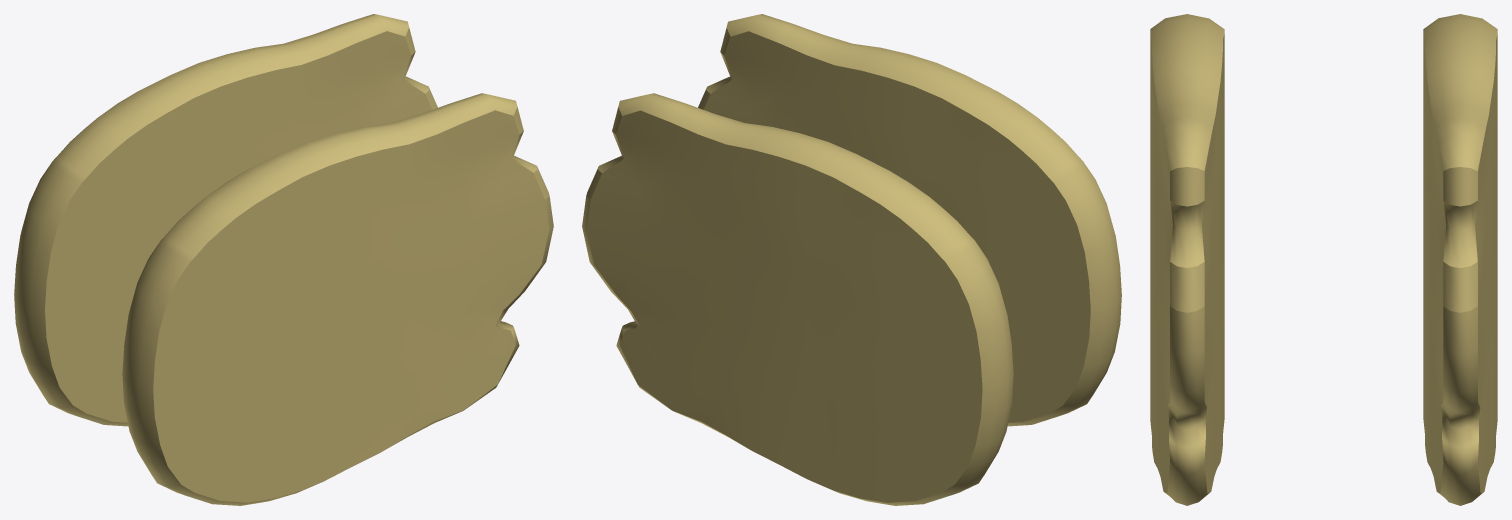
File: ChickHand.fbx
3 renders of one model, left to right at view 1: azimuth 30°, elevation 25°; view 2: azimuth 150°, elevation 25°; view 3: azimuth 270°, elevation 25°, orthographic. The views are drawn at different scales.
Visible parts, largest first — view 1: Chick_right_hand, Chick_left_hand; view 2: Chick_left_hand, Chick_right_hand; view 3: Chick_right_hand, Chick_left_hand.
Part boxes in pixels (x1,y1,x2,y2): Chick_right_hand: (122,93,553,505); Chick_left_hand: (14,14,437,426); Chick_left_hand: (582,93,1013,505); Chick_right_hand: (698,14,1121,426); Chick_right_hand: (1150,14,1224,505); Chick_left_hand: (1423,14,1497,505).
Size of the model in its own units: 4.7 by 3.68 by 2.64.
